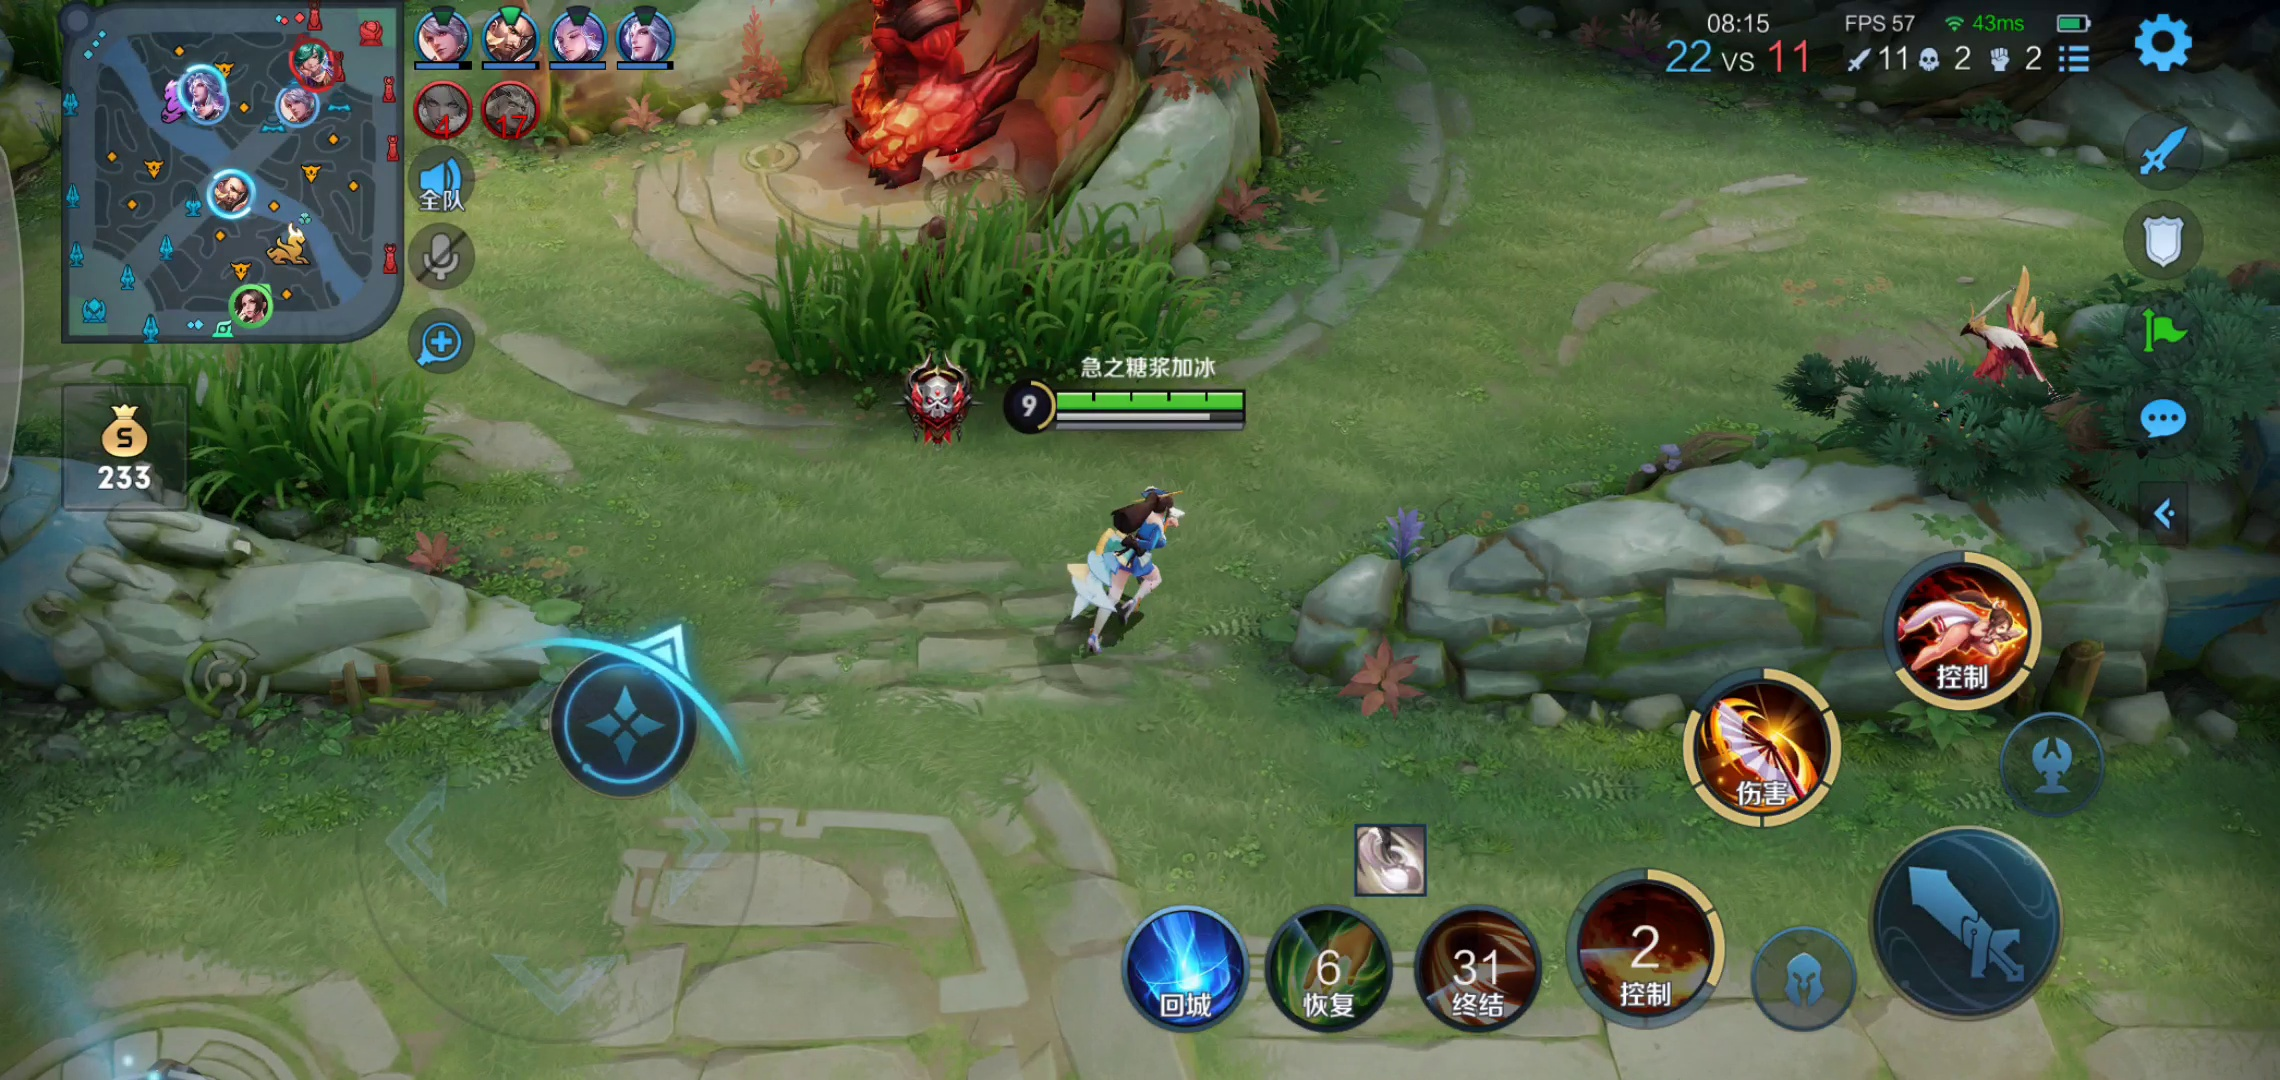buff: (808, 1, 1016, 177)
grass: (756, 206, 1211, 398), (74, 350, 433, 509), (1249, 1, 1402, 102)
hero: (1053, 477, 1200, 670)
wild_monster: (1930, 281, 2074, 422)
